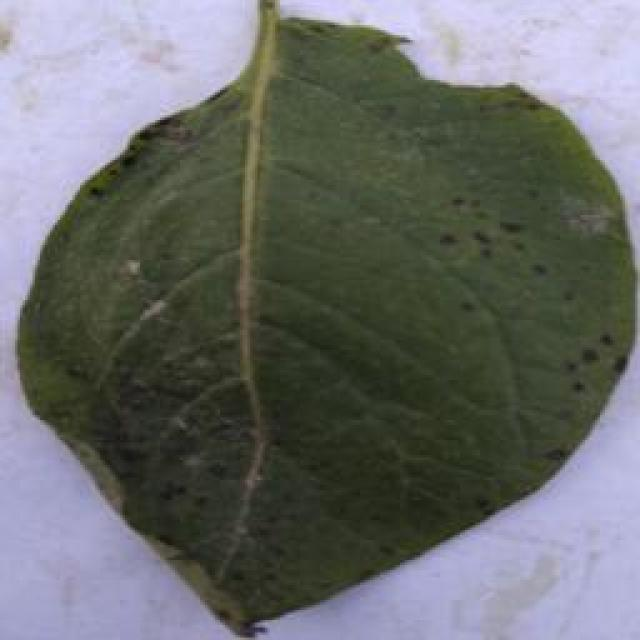Potato_Early_Blight: (12, 7, 640, 615)
